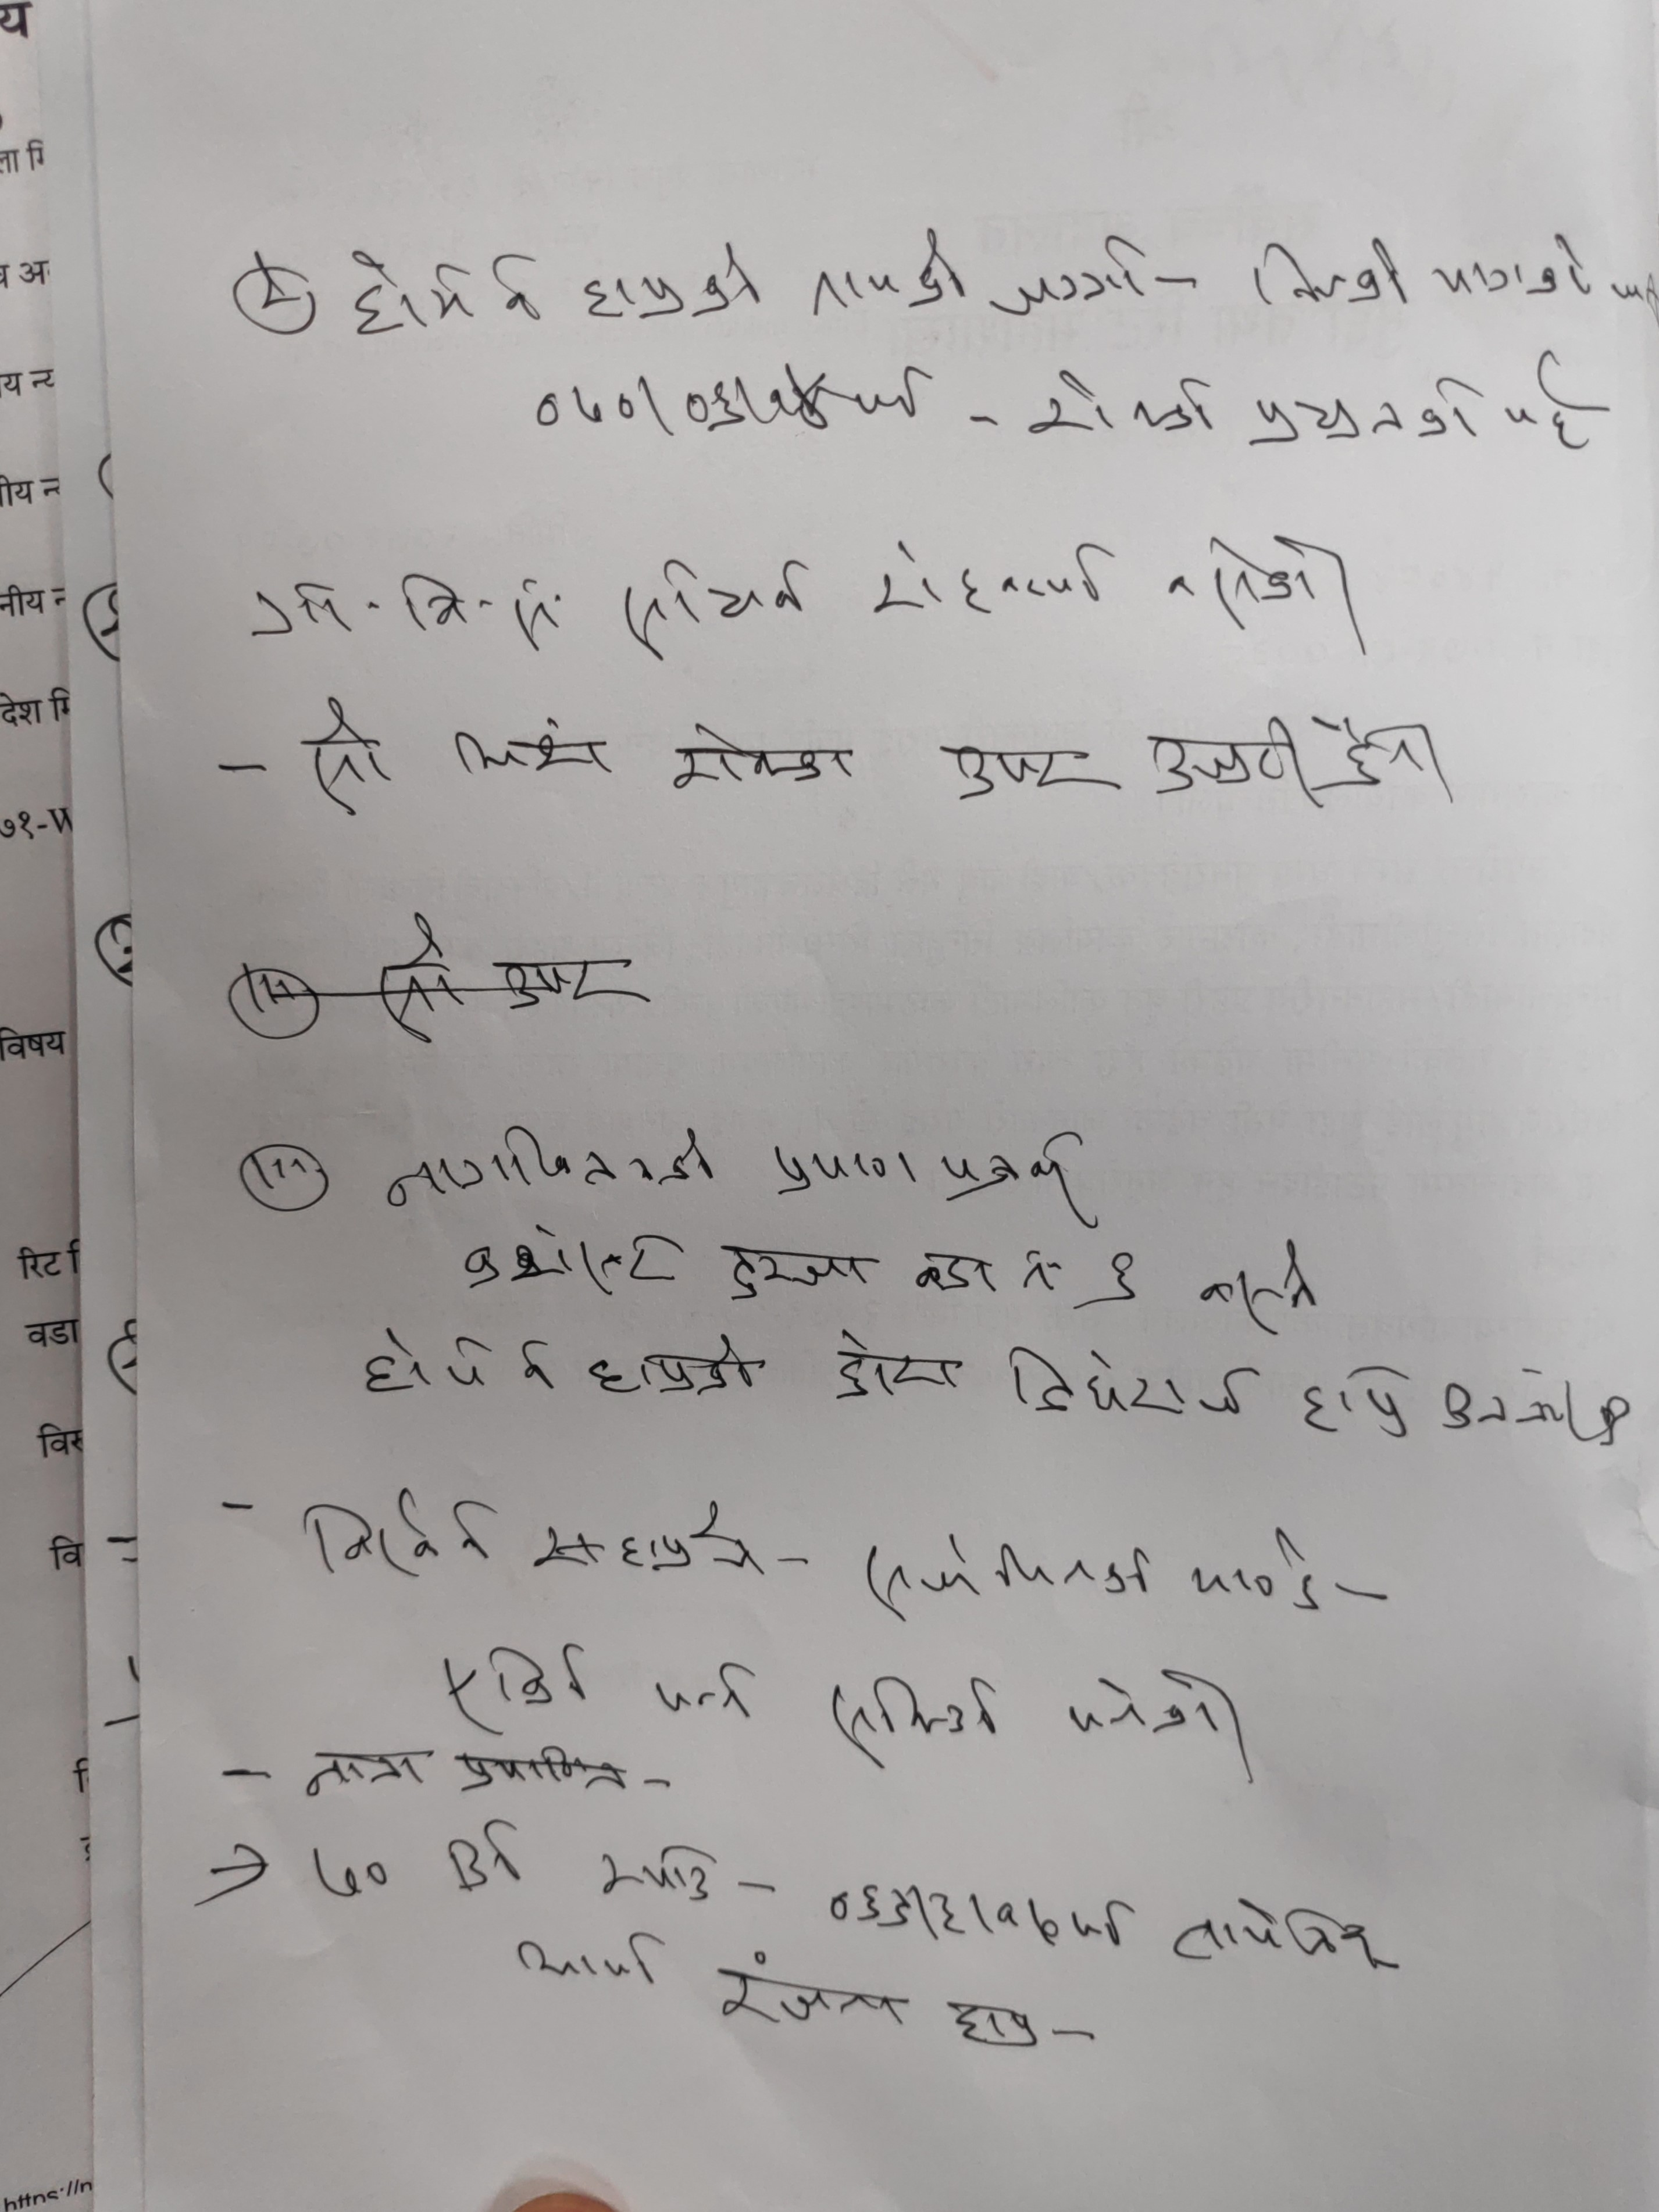text: (376, 1116, 721, 1211), (857, 1524, 1155, 1620), (1241, 347, 1480, 455), (242, 577, 570, 655), (1161, 529, 1368, 653), (1002, 1332, 1251, 1426), (617, 550, 816, 664), (1063, 1667, 1258, 1782), (866, 538, 1112, 624), (824, 1879, 1133, 1947), (342, 246, 552, 341), (530, 1500, 767, 1581), (816, 1669, 999, 1773), (298, 1484, 495, 1578), (1143, 707, 1312, 812), (931, 1125, 1101, 1228), (430, 1629, 589, 1733), (795, 226, 969, 315), (709, 1949, 906, 2027), (1173, 1898, 1385, 1970), (361, 1327, 563, 1402), (582, 246, 769, 326), (985, 232, 1148, 322), (1025, 366, 1218, 442), (1194, 1235, 1324, 1346), (669, 718, 863, 791), (1248, 230, 1415, 310), (584, 1329, 758, 1406), (1190, 1531, 1323, 1629), (1432, 226, 1591, 305), (1500, 355, 1614, 460), (298, 697, 399, 812), (721, 1235, 875, 1310), (938, 738, 1119, 801), (451, 1743, 647, 1801), (826, 1331, 964, 1409), (450, 721, 624, 780), (767, 1139, 920, 1205), (1298, 1360, 1420, 1442), (1312, 709, 1427, 794), (512, 1930, 676, 1989), (594, 1831, 718, 1905), (647, 1653, 762, 1719), (437, 1811, 533, 1888), (301, 1745, 423, 1803), (908, 1237, 1006, 1306), (943, 1996, 1049, 2054), (307, 1838, 397, 1898), (1011, 1245, 1073, 1315), (1091, 1245, 1154, 1303)
